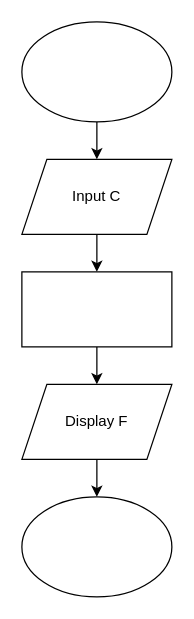
The diagram is 194 pixels wide and 619 high, and some of its shapes have lost their labels. The box of each missing label's shape, as (x1, y1, x2, y2) in pixels:
BEGIN: (21, 21, 172, 122)
f = (c*9)/5+32: (21, 271, 172, 347)
